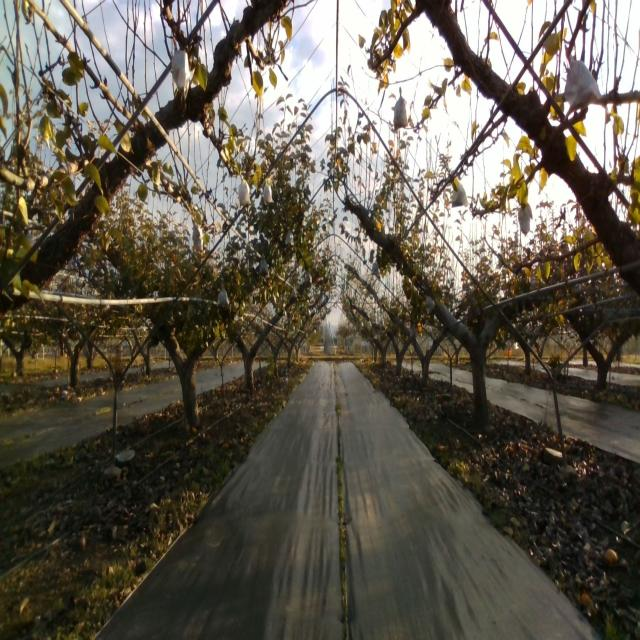pearbags: (564, 54, 603, 110), (171, 36, 190, 100), (393, 86, 408, 132), (518, 198, 533, 236), (451, 180, 468, 208), (191, 219, 204, 253), (238, 174, 251, 207), (216, 286, 230, 310), (263, 178, 274, 206)
